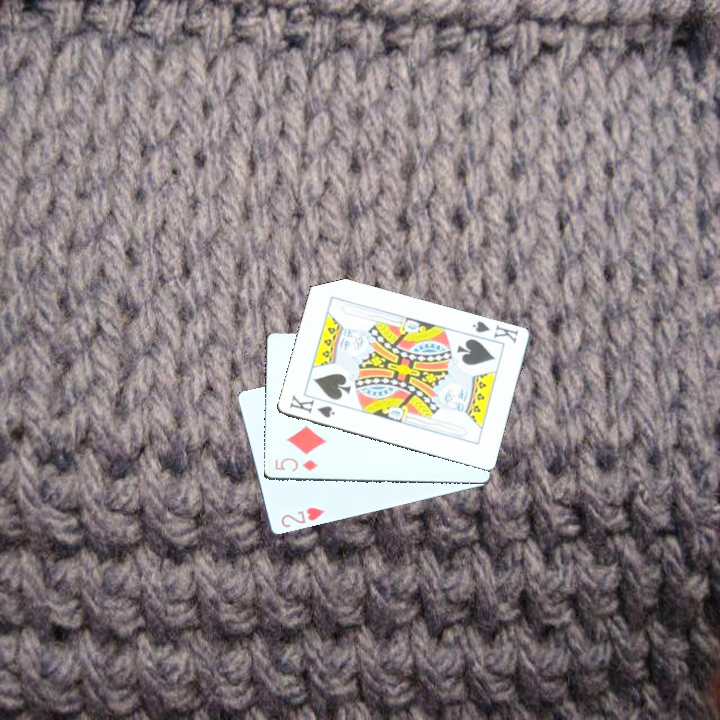2h: (277, 503, 327, 530)
5d: (271, 454, 320, 474)
Ks: (465, 317, 520, 352), (285, 389, 342, 420)
